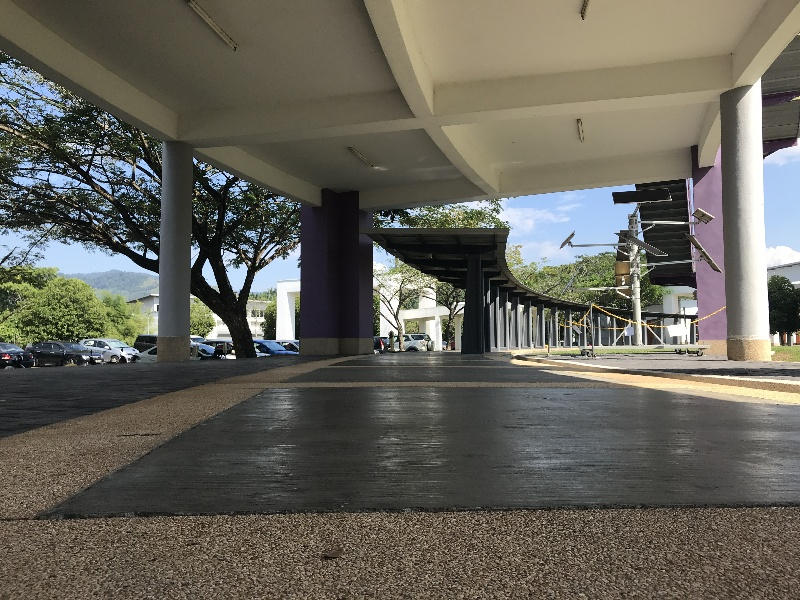Block D Pillar 5: (8, 8, 800, 547)
pillar: (715, 82, 781, 366), (286, 175, 382, 363), (146, 127, 198, 374), (680, 135, 734, 352), (458, 249, 487, 361)
